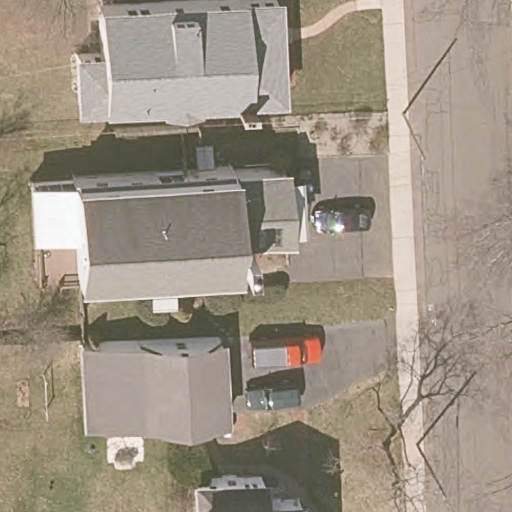DT: (416, 443, 450, 499), (400, 112, 429, 160)
